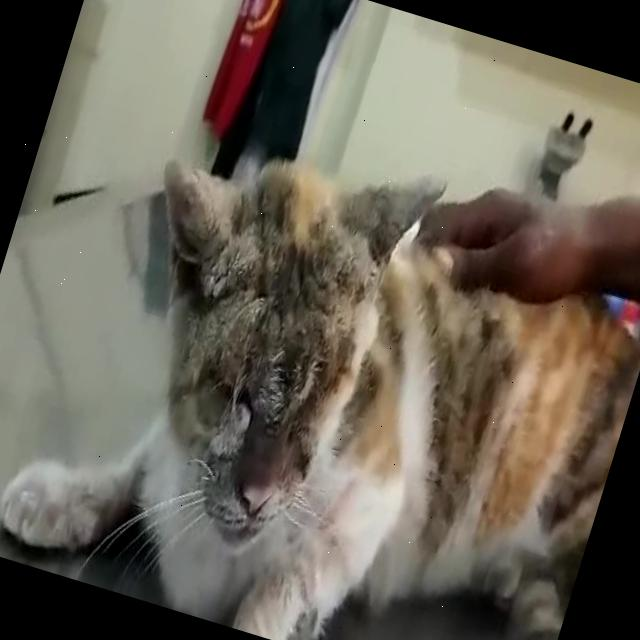cat-scabies: (162, 322, 356, 570), (130, 148, 276, 312), (324, 131, 460, 284)
